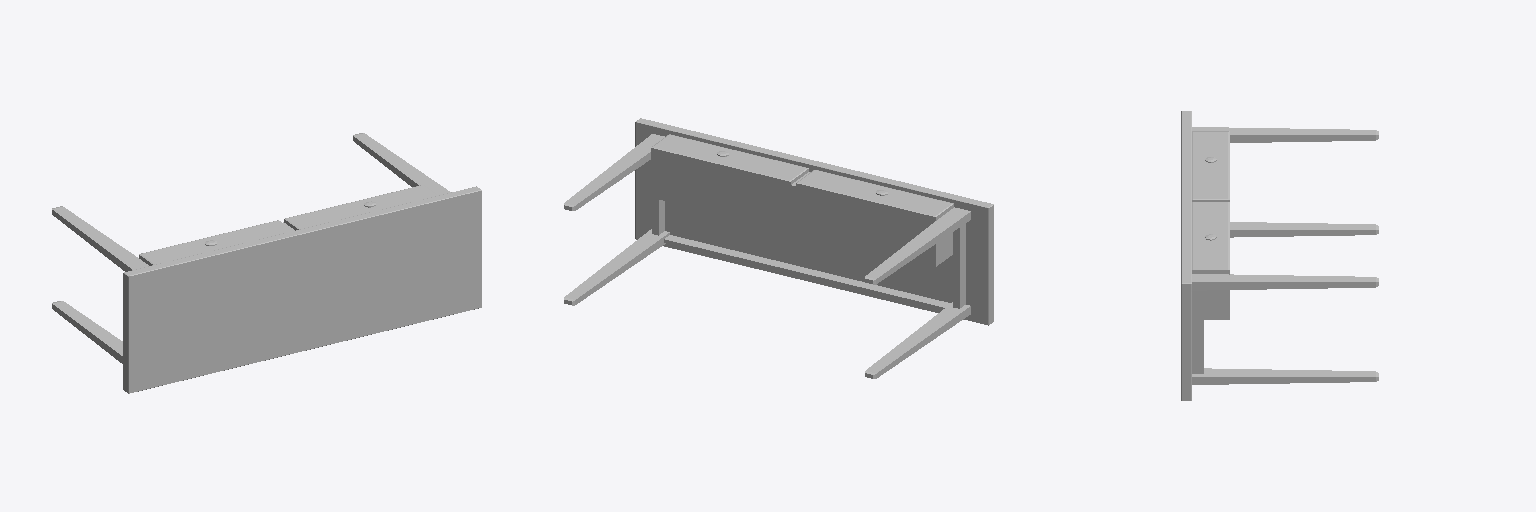
The model's file is walls_scaled_meters.obj.
3 views of the same model, side by side, from view 1: azimuth 30°, elevation 25°; view 2: azimuth 150°, elevation 25°; view 3: azimuth 270°, elevation 25° (orthographic).
Size of the model in its own units: 0.1811 by 0.0576 by 0.0874.